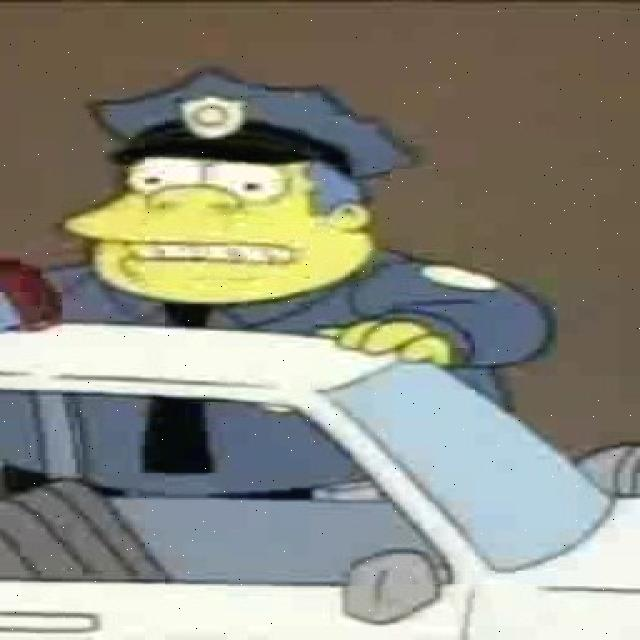Chief Wiggam: (58, 65, 428, 310)
